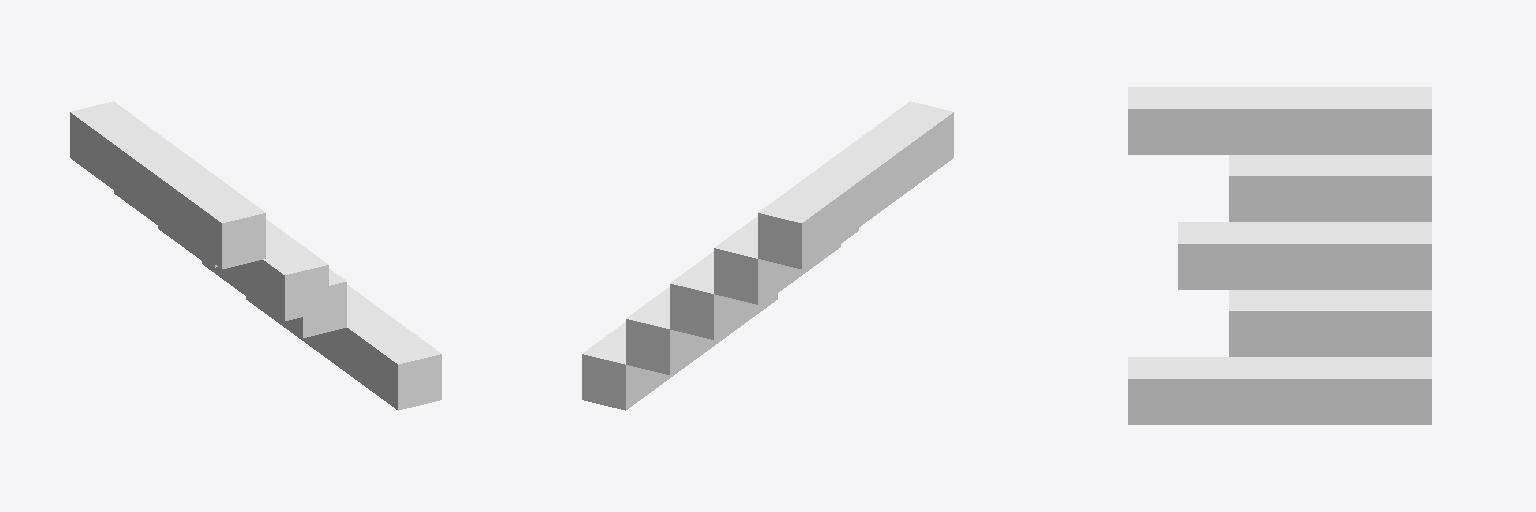
Rendered from YellowHouseParts-91.obj.
The picture shows the model from 3 angles: view 1: azimuth 30°, elevation 25°; view 2: azimuth 150°, elevation 25°; view 3: azimuth 270°, elevation 25°; orthographic projection.
Visible parts, largest first — view 1: object 1; view 2: object 1; view 3: object 1.
Boxes of the visible parts, x1,y1,x2,y2 form: object 1: [70, 101, 441, 410]; object 1: [582, 101, 953, 410]; object 1: [1128, 87, 1431, 424].
Size of the model in its own units: 0.5 by 0.5 by 0.6.